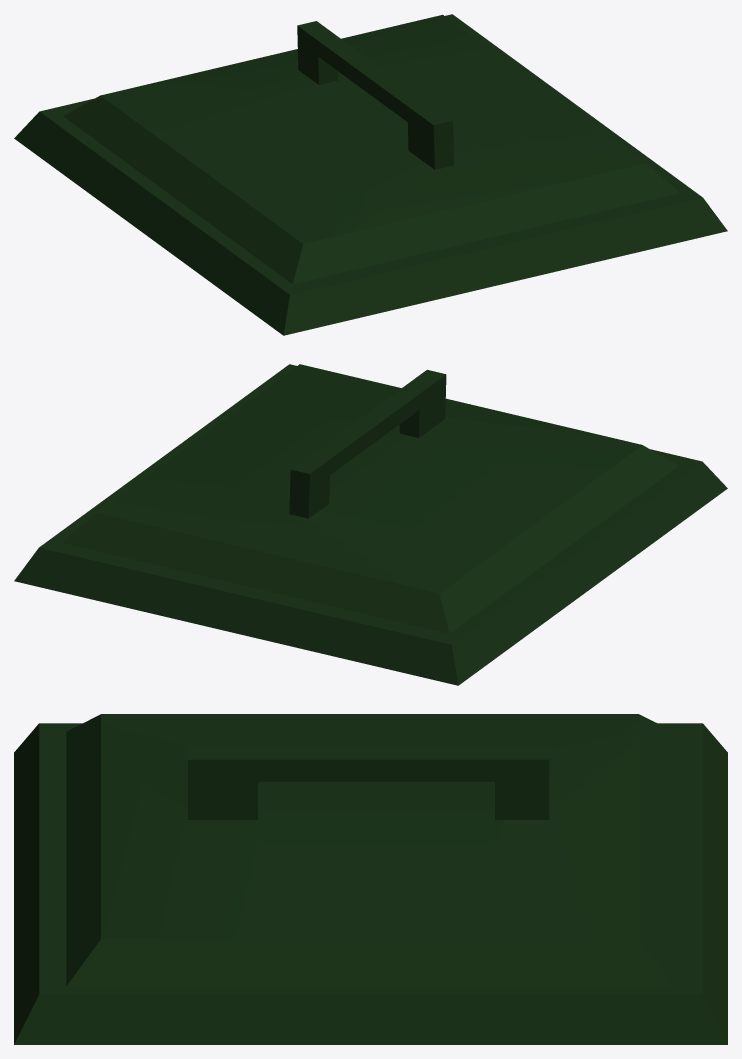
File: trashlid.FBX
The picture shows the model from 3 angles, top to bottom: view 1: azimuth 30°, elevation 25°; view 2: azimuth 150°, elevation 25°; view 3: azimuth 270°, elevation 25°; orthographic projection. The views are drawn at different scales.
Parts seen in each view (by area): view 1: Box003; view 2: Box003; view 3: Box003.
Part boxes in pixels (x1,y1,x2,y2): Box003: [14, 14, 727, 335]; Box003: [14, 364, 727, 685]; Box003: [14, 714, 727, 1044].
Bounding box in the file's own units: 37.78 × 9.22 × 39.7.
